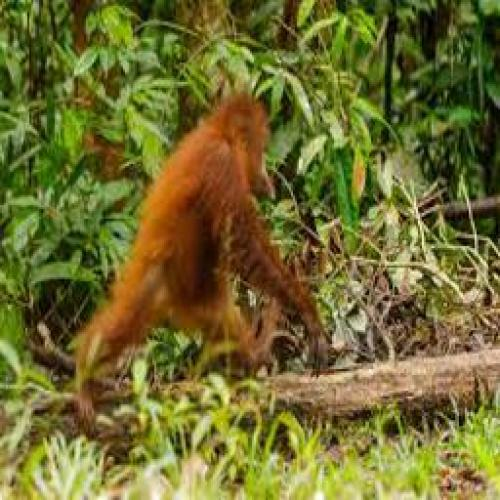orangutan-endangered: (75, 91, 330, 385)
